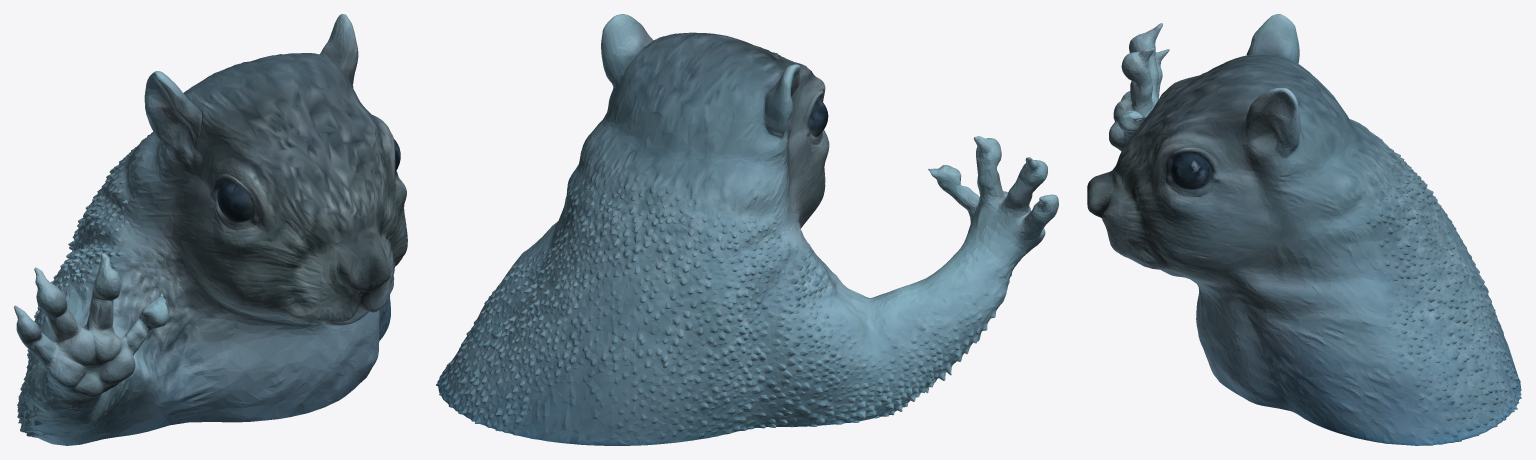
Rendered from squirrel.glb.
The picture shows the model from 3 angles, left to right: view 1: azimuth 30°, elevation 25°; view 2: azimuth 150°, elevation 25°; view 3: azimuth 270°, elevation 25°; orthographic projection. The views are drawn at different scales.
Bounding box in the file's own units: 0.9786 × 0.6476 × 0.8156.
